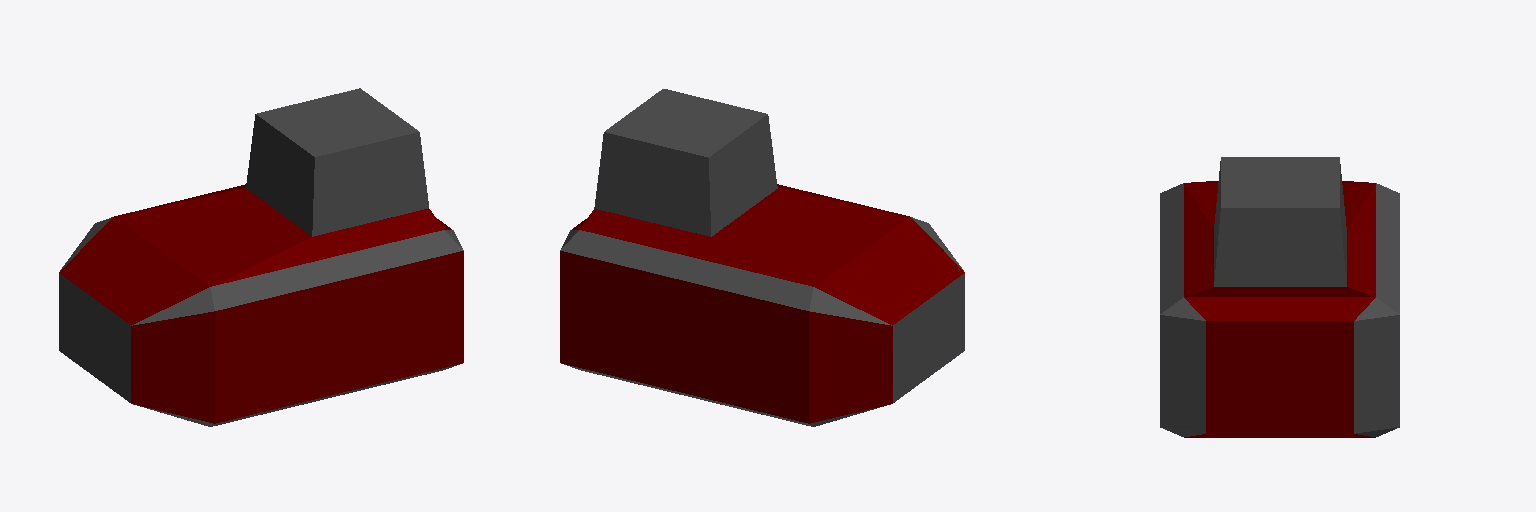
Rendered from basket.obj.
3 views of the same model, side by side, from view 1: azimuth 30°, elevation 25°; view 2: azimuth 150°, elevation 25°; view 3: azimuth 270°, elevation 25° (orthographic).
Parts seen in each view (by area): view 1: Mesh6 default_group Cube_001 skp444_1 Model, Mesh7 default_group Cube_001 skp444_1 Model, Mesh4 default_group Cube_001 skp444_1 Model, Mesh1 default_group Cube_001 skp444_1 Model, Mesh3 default_group Cube_001 skp444_1 Model; view 2: Mesh5 default_group Cube_001 skp444_1 Model, Mesh7 default_group Cube_001 skp444_1 Model, Mesh4 default_group Cube_001 skp444_1 Model, Mesh2 default_group Cube_001 skp444_1 Model, Mesh3 default_group Cube_001 skp444_1 Model; view 3: Mesh7 default_group Cube_001 skp444_1 Model, Mesh4 default_group Cube_001 skp444_1 Model, Mesh1 default_group Cube_001 skp444_1 Model, Mesh2 default_group Cube_001 skp444_1 Model.
Part boxes in pixels (x1,y1,x2,y2): Mesh6 default_group Cube_001 skp444_1 Model: (131, 251, 463, 423); Mesh7 default_group Cube_001 skp444_1 Model: (59, 184, 451, 425); Mesh4 default_group Cube_001 skp444_1 Model: (246, 88, 428, 236); Mesh1 default_group Cube_001 skp444_1 Model: (132, 230, 463, 426); Mesh3 default_group Cube_001 skp444_1 Model: (59, 273, 130, 402); Mesh5 default_group Cube_001 skp444_1 Model: (560, 251, 892, 423); Mesh7 default_group Cube_001 skp444_1 Model: (572, 184, 964, 425); Mesh4 default_group Cube_001 skp444_1 Model: (594, 89, 777, 236); Mesh2 default_group Cube_001 skp444_1 Model: (560, 230, 891, 426); Mesh3 default_group Cube_001 skp444_1 Model: (893, 273, 964, 402); Mesh7 default_group Cube_001 skp444_1 Model: (1184, 181, 1375, 437); Mesh4 default_group Cube_001 skp444_1 Model: (1214, 157, 1346, 286); Mesh1 default_group Cube_001 skp444_1 Model: (1160, 182, 1205, 436); Mesh2 default_group Cube_001 skp444_1 Model: (1354, 182, 1399, 436).
Bounding box in the file's own units: 0.5252 × 0.3528 × 0.3393.